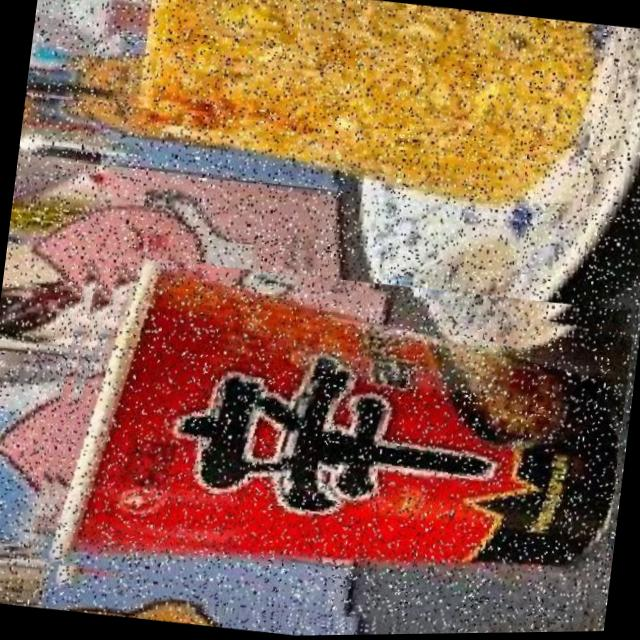Miscellaneous: (26, 242, 635, 640)
